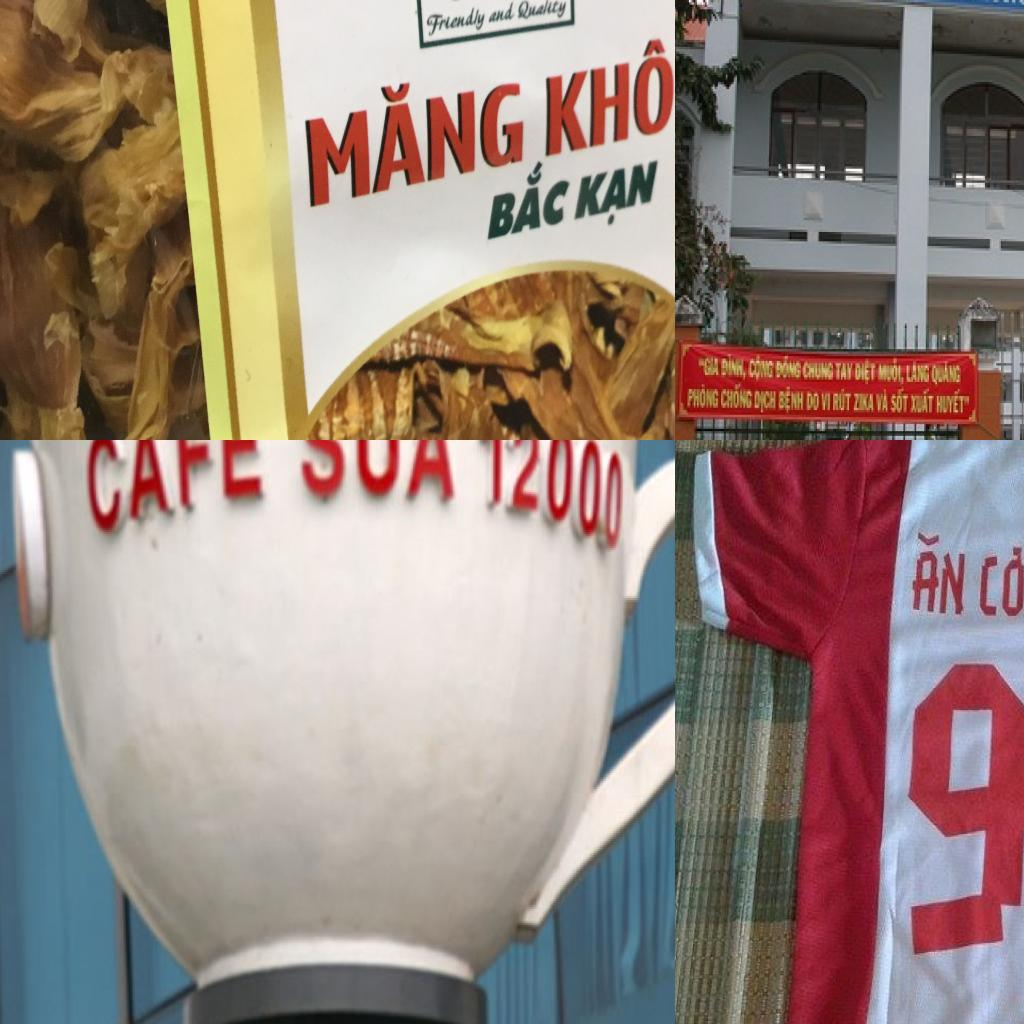text: (887, 646, 1024, 982), (294, 52, 532, 216), (84, 440, 265, 544), (539, 27, 675, 164), (471, 440, 627, 556), (296, 440, 460, 504), (486, 149, 574, 246), (569, 152, 663, 236), (908, 523, 970, 620), (975, 540, 1024, 626), (424, 4, 486, 39), (937, 387, 972, 431), (516, 0, 568, 24), (684, 384, 721, 417), (932, 358, 964, 389), (910, 386, 937, 422), (720, 384, 754, 412), (804, 358, 838, 384), (776, 356, 804, 387), (852, 356, 880, 387), (722, 354, 750, 384), (878, 361, 906, 391), (748, 356, 776, 384), (907, 358, 932, 389), (753, 386, 780, 414), (957, 0, 1024, 11), (778, 389, 806, 415), (488, 0, 516, 25), (834, 386, 854, 420), (700, 354, 723, 382), (892, 389, 912, 419), (804, 389, 822, 419), (836, 361, 857, 384), (876, 389, 891, 419), (822, 389, 834, 424)
